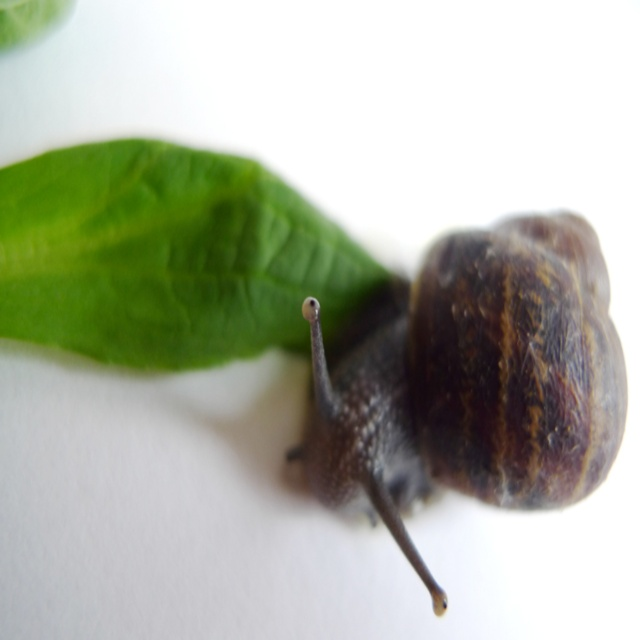Snail: (265, 208, 629, 596)
